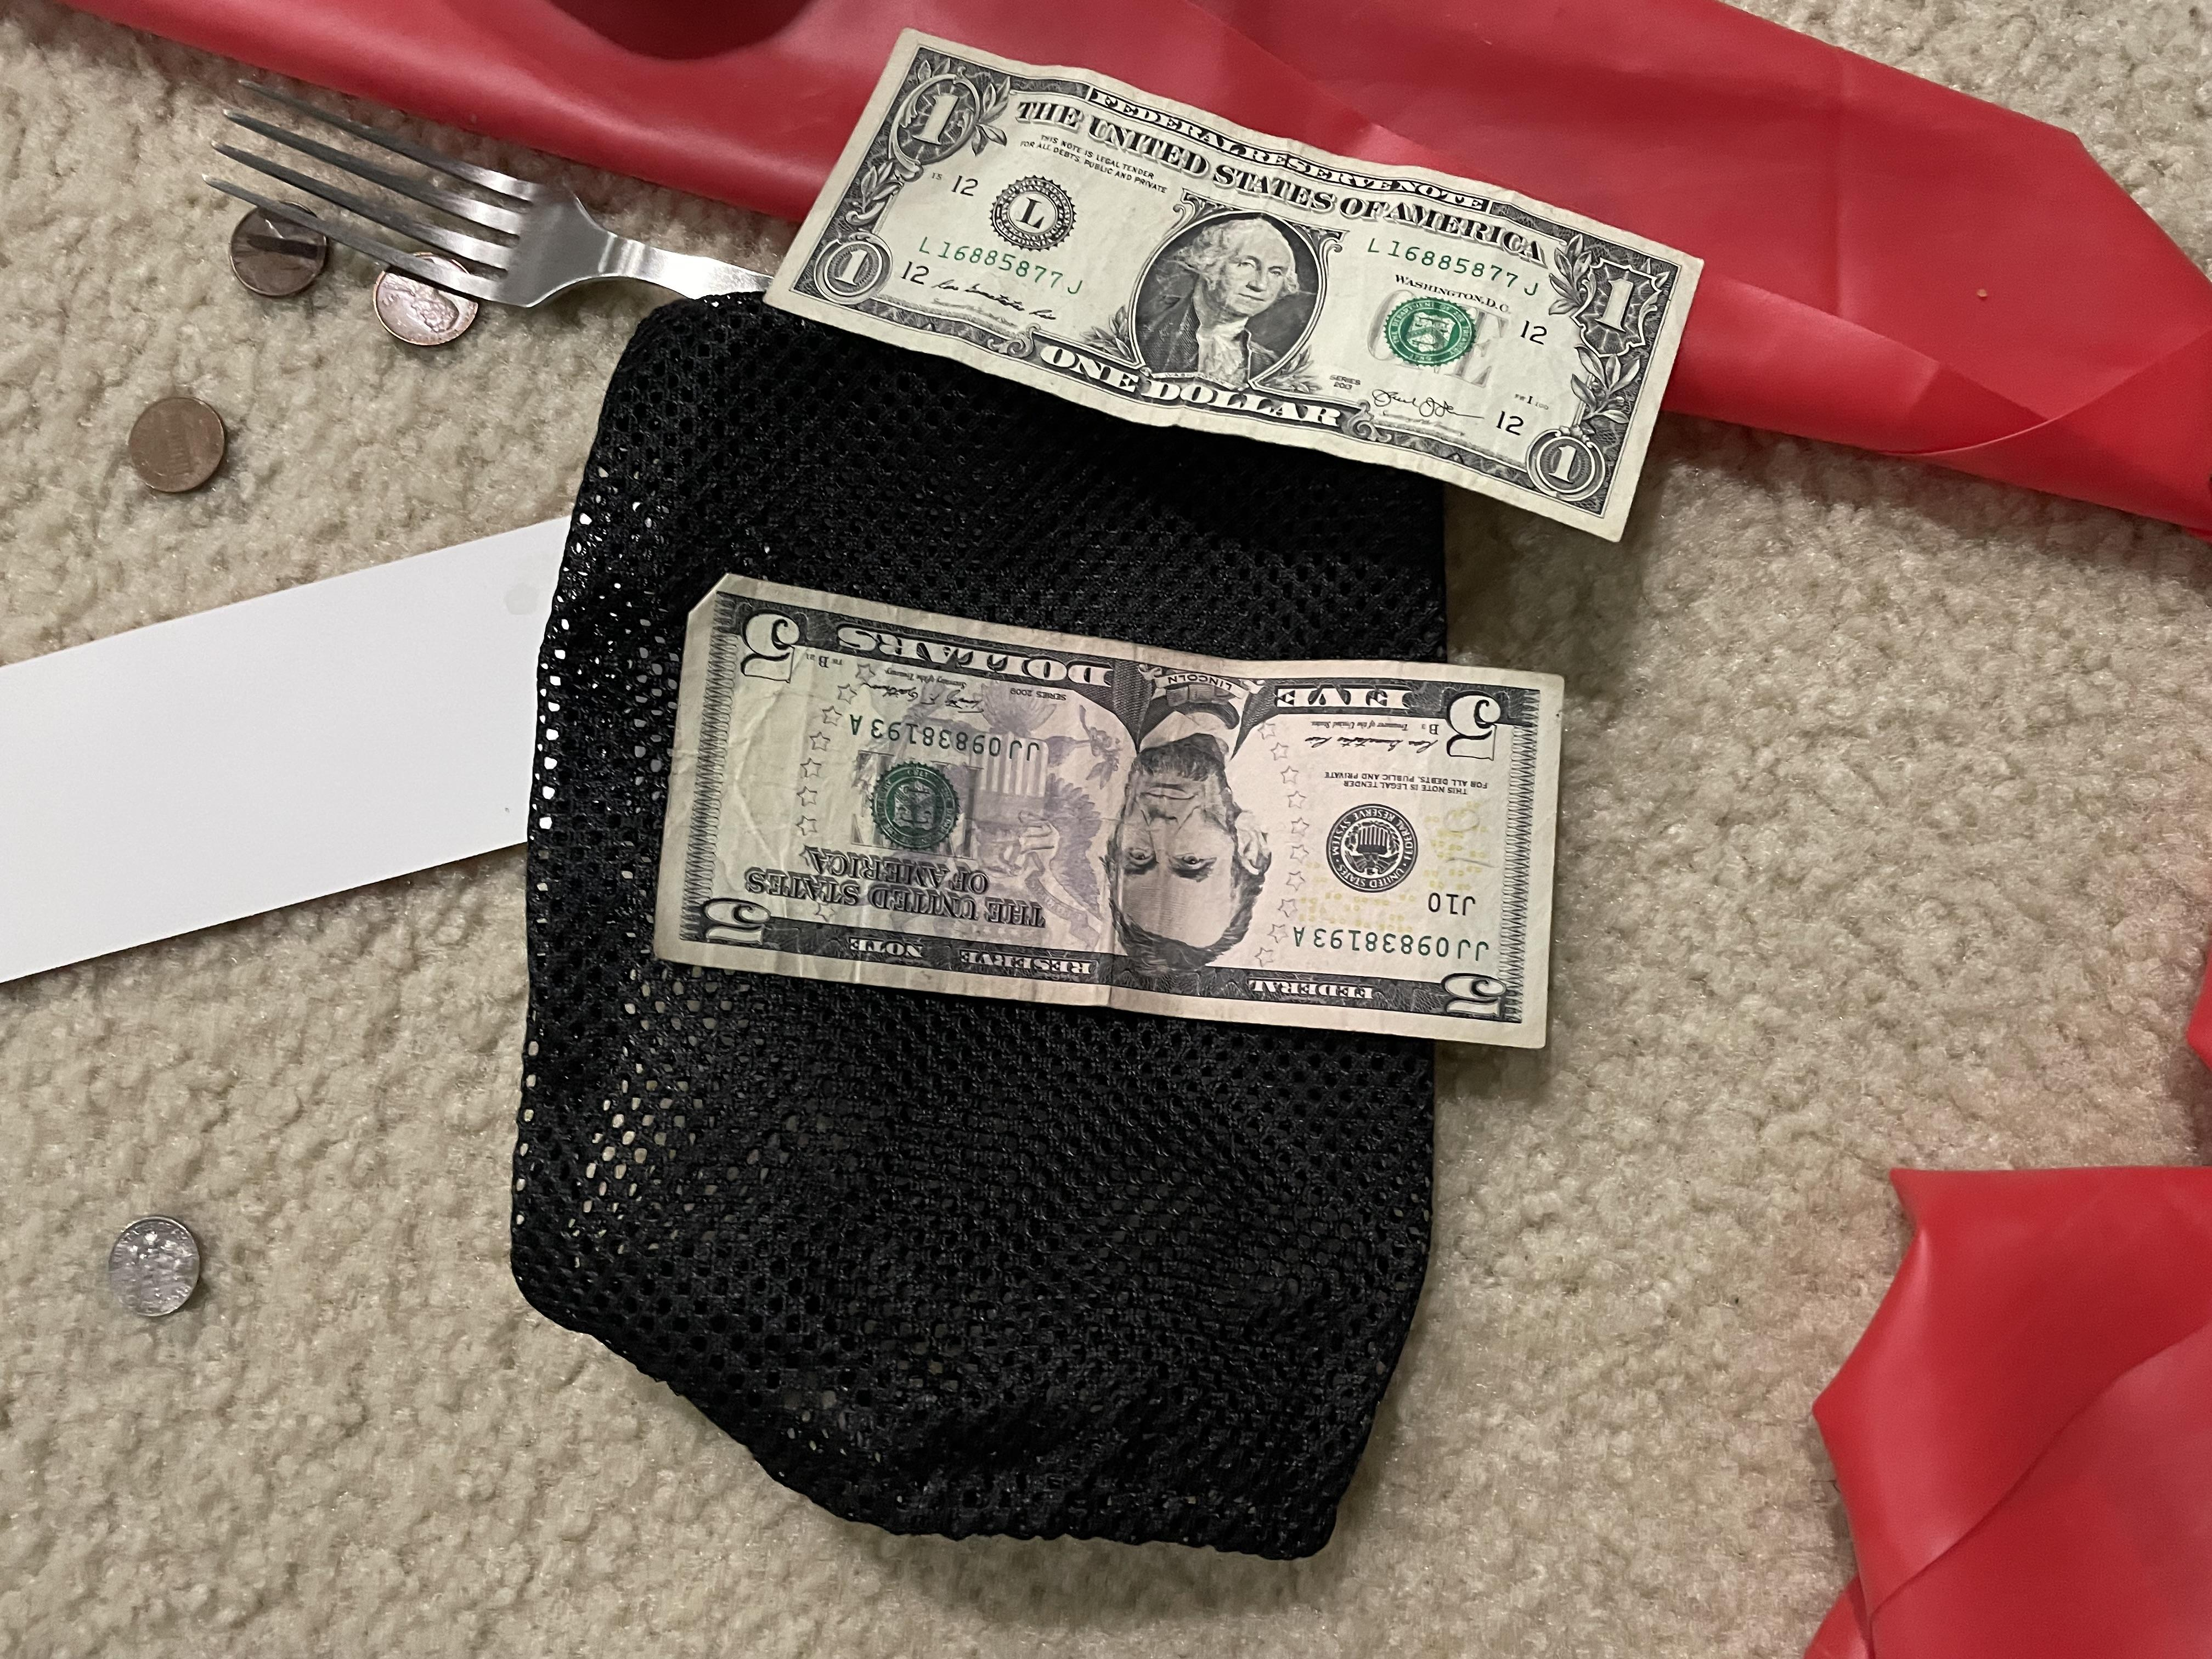Dime: (94, 1216, 206, 1328)
FiveBill: (637, 570, 1580, 1061)
OneBill: (772, 19, 1705, 554)
Penny: (211, 197, 348, 298), (373, 251, 475, 361), (124, 383, 232, 486)
